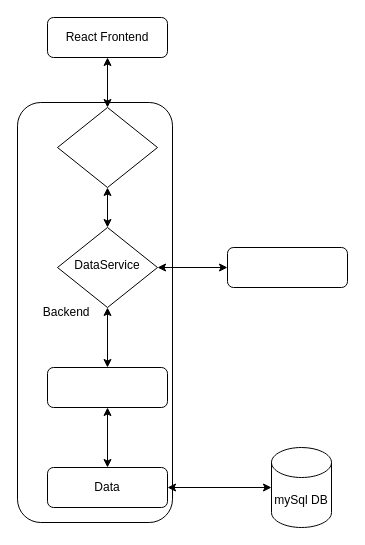
This 365x545 diagram has some shape labels left out. The shapes that lost their labels are listed below. From the top down, each one's box as (x1, y1, x2, y2) in pixels, then its label:
(56, 106, 158, 188): ApiControler
(226, 246, 348, 288): Externe API
(46, 366, 168, 408): DataRepository
